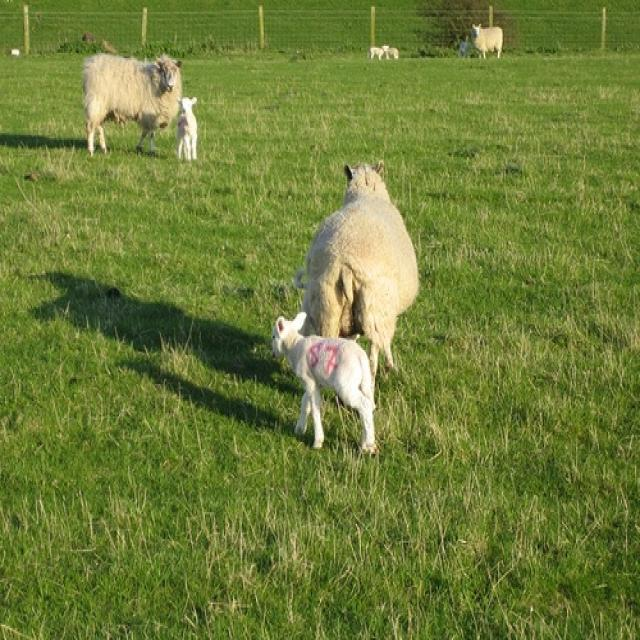sheep: (303, 158, 421, 374), (276, 311, 382, 452), (78, 48, 183, 157), (172, 90, 208, 159), (470, 24, 512, 60)
